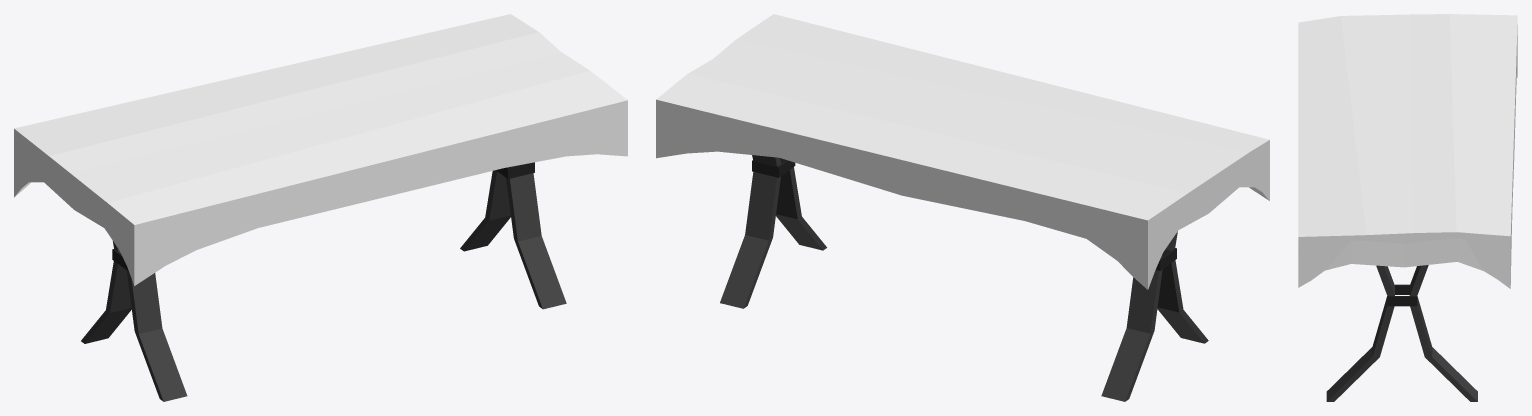
The model's file is tableclothcover01.obj.
3 views of the same model, side by side, from view 1: azimuth 30°, elevation 25°; view 2: azimuth 150°, elevation 25°; view 3: azimuth 270°, elevation 25° (orthographic). The views are drawn at different scales.
Parts seen in each view (by area): view 1: Cube.001_Cube; view 2: Cube.001_Cube; view 3: Cube.001_Cube.
Part boxes in pixels (x1,y1,x2,y2): Cube.001_Cube: (14, 14, 627, 401); Cube.001_Cube: (656, 14, 1269, 401); Cube.001_Cube: (1298, 14, 1517, 401).
Bounding box in the file's own units: 2.1 × 0.8403 × 0.8837.
